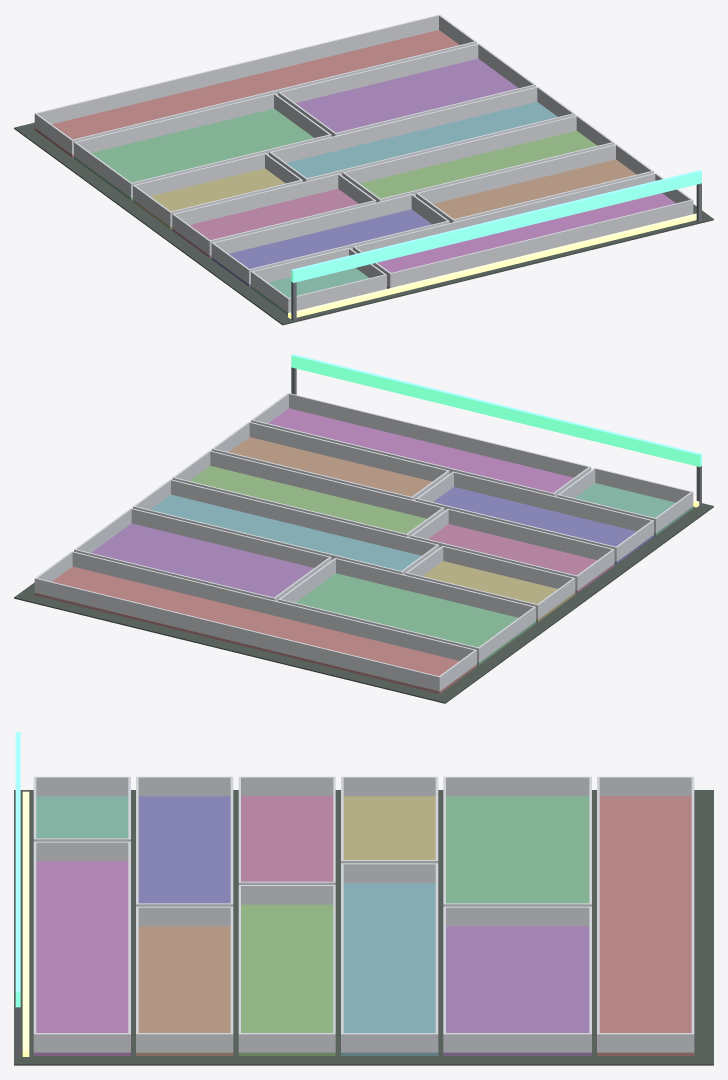
Rendered from hall-lead-abatement.glb.
3 views of the same model, one above another, from view 1: azimuth 30°, elevation 25°; view 2: azimuth 150°, elevation 25°; view 3: azimuth 270°, elevation 25° (orthographic). The views are drawn at different scales.
Visible parts, largest first — view 1: Lead Abatement Workers; view 2: Lead Abatement Workers; view 3: Lead Abatement Workers.
Boxes of the visible parts, left/top/right/bottom form: Lead Abatement Workers: left=14, top=14, right=713, bottom=325; Lead Abatement Workers: left=14, top=354, right=713, bottom=703; Lead Abatement Workers: left=14, top=732, right=713, bottom=1065.
Bounding box in the file's own units: 38 × 4.3 × 41.
